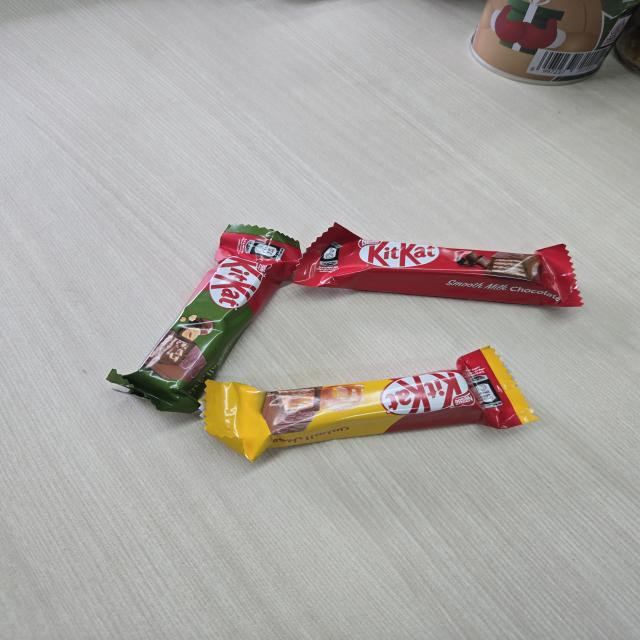chocolate-bar: (197, 342, 541, 470), (105, 223, 304, 415), (291, 212, 587, 316)
